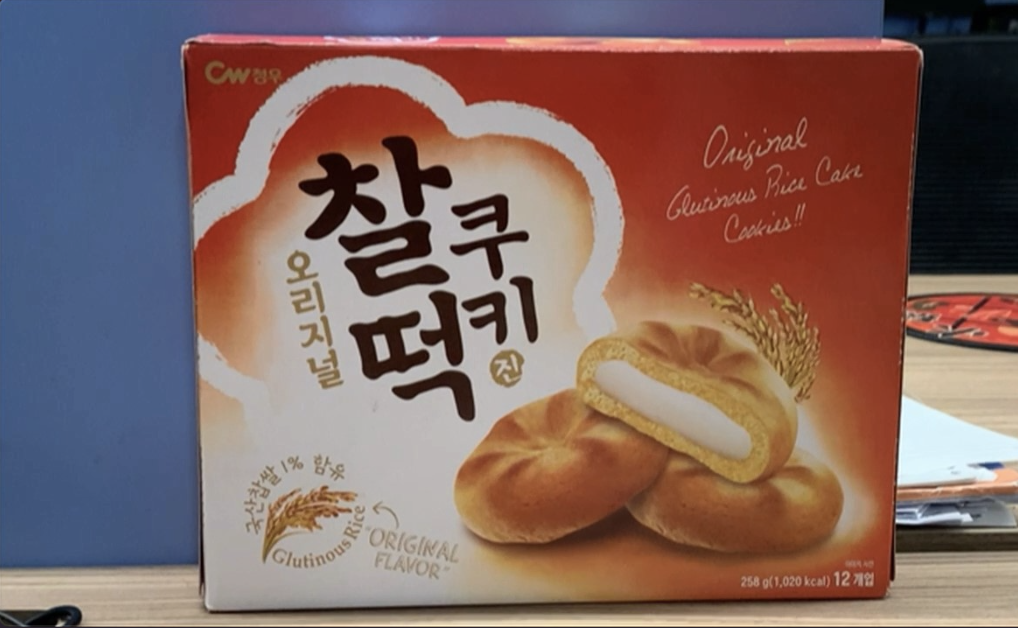cookies_200g-299g: (214, 58, 879, 592)
